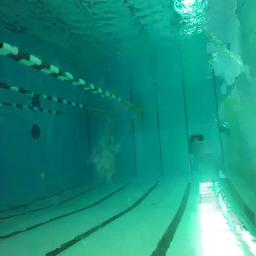Full: (190, 132, 205, 142), (216, 120, 228, 129)
